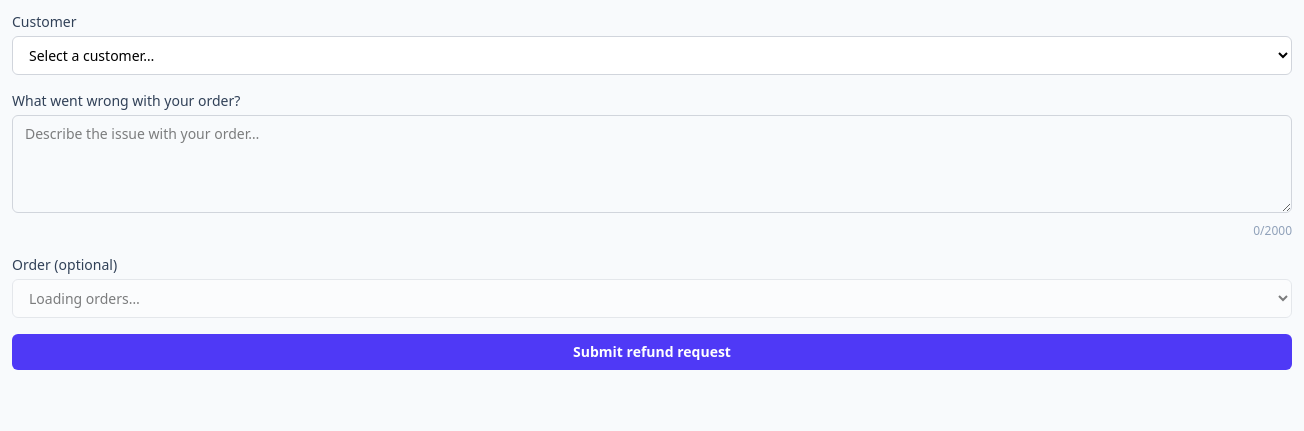
Test case: RequestForm › clears the customer error when a customer is chosen
Click the button "Submit refund request" at {"x": 652, "y": 352}, box x1=12 y1=334 x2=1292 y2=370
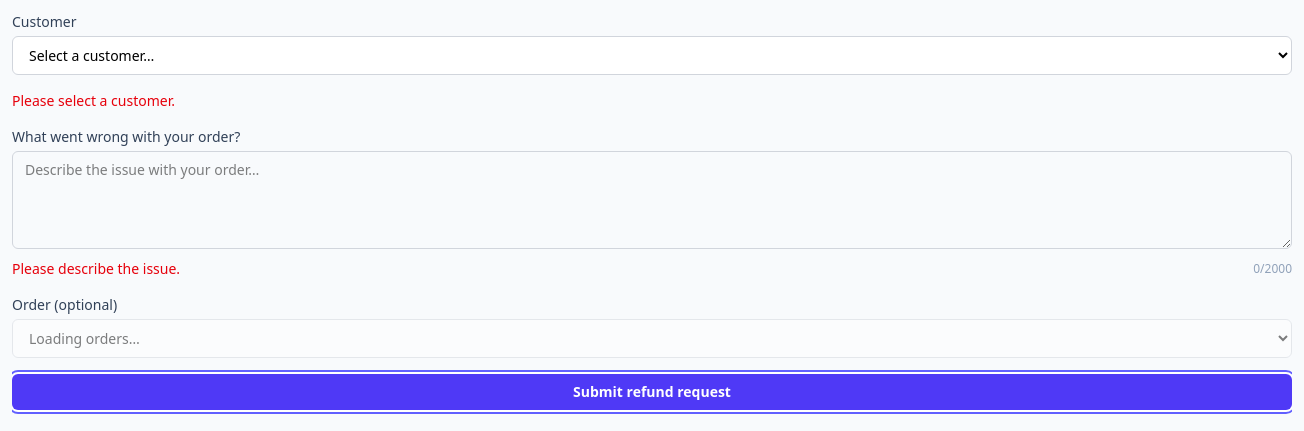
Result: the text "Please select a customer." is shown at x1=12 y1=91 x2=175 y2=110
Select "Alice Brown (alice@example.com)" in the dropdown labelled "Customer" at {"x": 652, "y": 56}, box x1=12 y1=36 x2=1292 y2=75
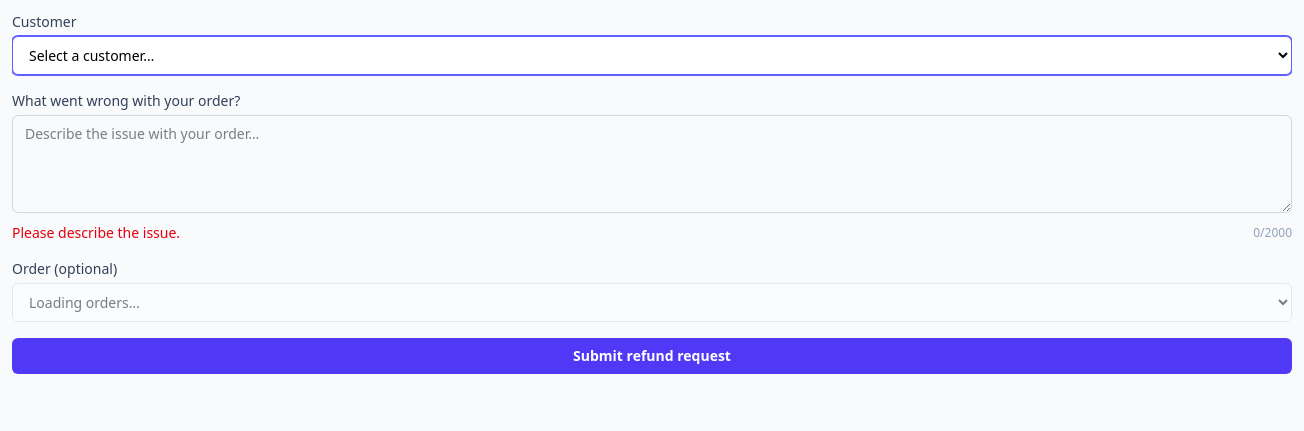
Result: the text "Please select a customer." is gone
